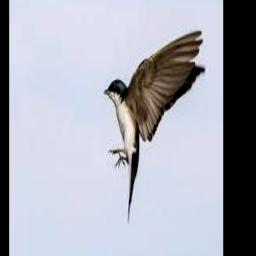Swallow: (105, 30, 206, 223)
